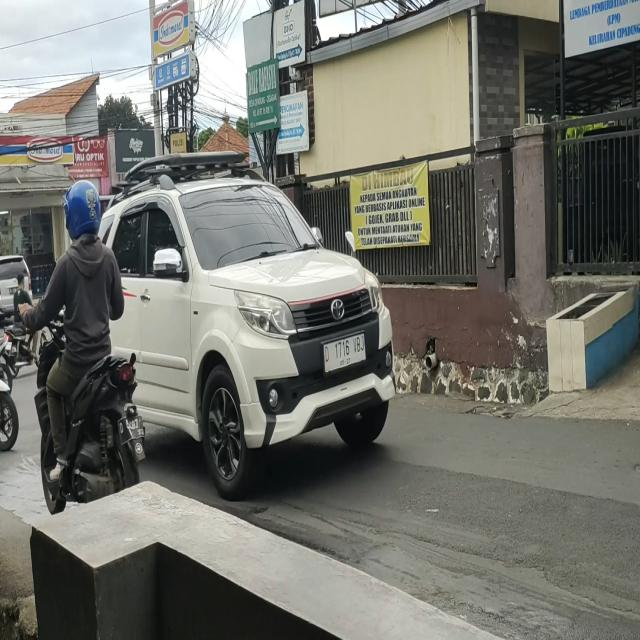helmet: (65, 179, 101, 241)
